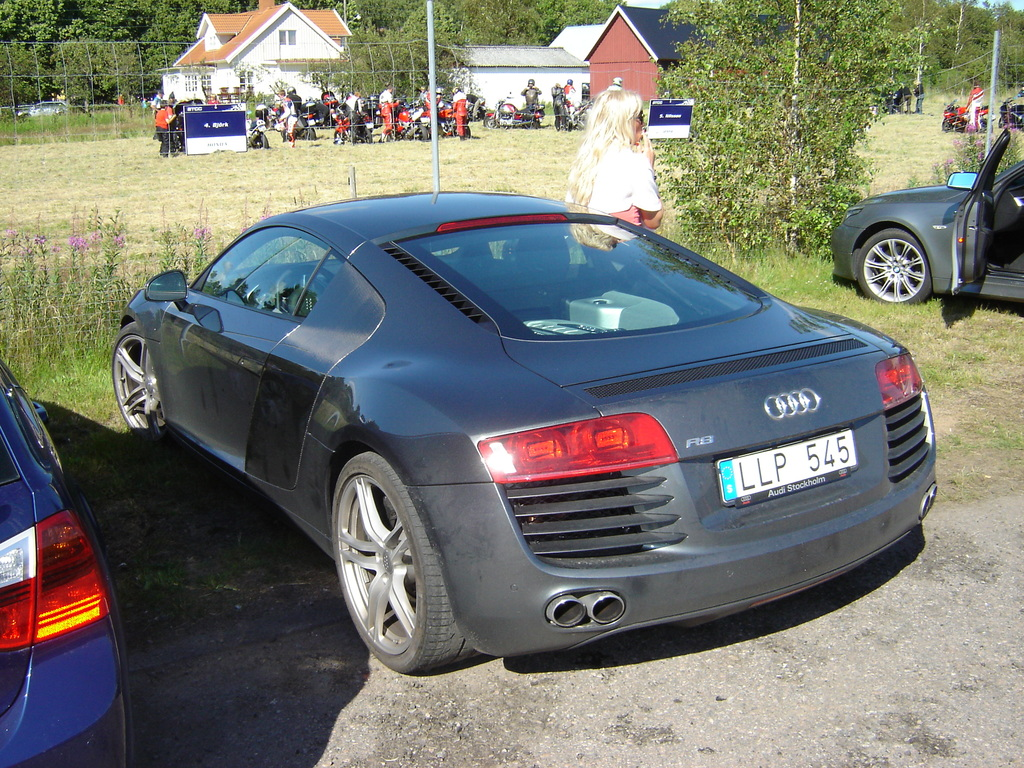Car: (112, 178, 937, 679), (0, 355, 133, 767), (830, 132, 1023, 312)
